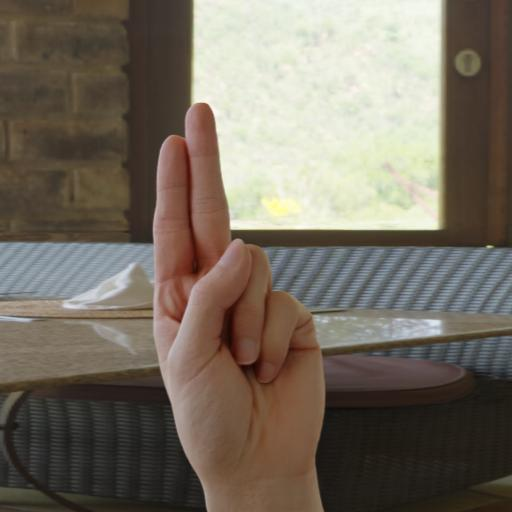U: (131, 86, 348, 512)
